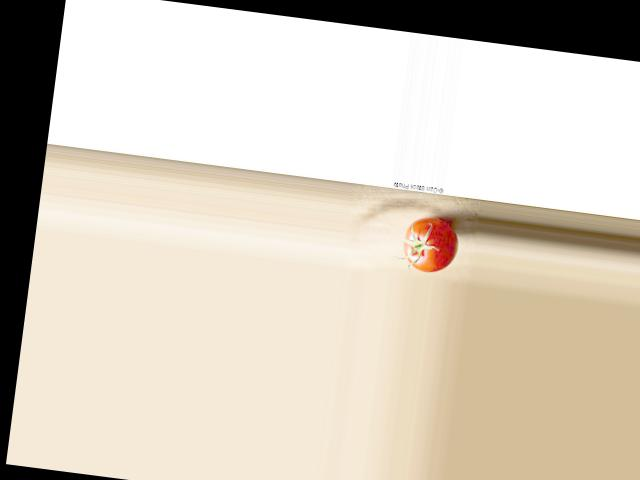tomato: (399, 214, 460, 274)
